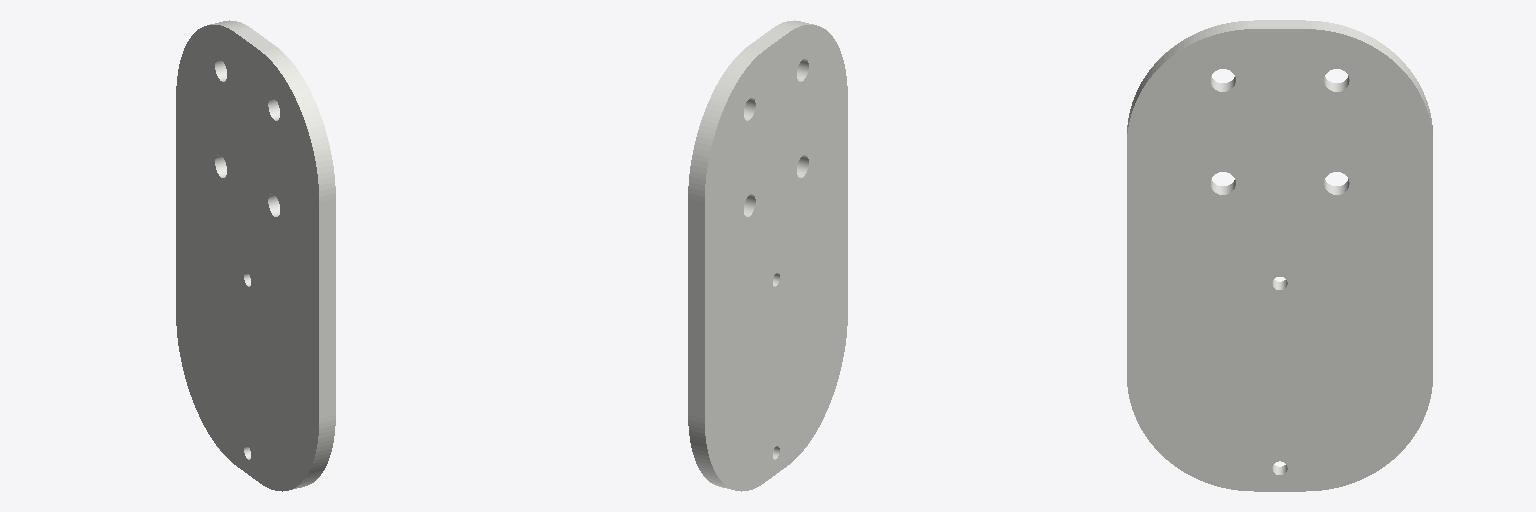
URDF robot description (abb_l515):
<?xml version="1.0" ?>
<!-- =================================================================================== -->
<!-- |    This document was autogenerated by xacro from [local-path]/Flexcraft/active_vision_ws/src/agent_models/abb_l515_model/abb_l515_description/urdf/abb_l515.xacro | -->
<!-- |    EDITING THIS FILE BY HAND IS NOT RECOMMENDED                                 | -->
<!-- =================================================================================== -->
<robot name="abb_l515">
    <!-- Conversion were obtained from http://www.e-paint.co.uk/Lab_values.asp
       unless otherwise stated. -->
    <!-- Conversion were obtained from http://www.e-paint.co.uk/Lab_values.asp
       unless otherwise stated. -->
    <material name="aluminum">
        <color rgba="0.5 0.5 0.5 1" />
    </material>
    <material name="plastic">
        <color rgba="0.1 0.1 0.1 1" />
    </material>
    <!-- this specific plug does not apply to L515 -->
    <!-- link list -->
    <link name="base_link">
        <!-- See note 1 in package.xml about the inertial and mass values -->
        <inertial>
            <mass value="13.7742" />
            <origin xyz="-0.028986 0.000596 0.11273" rpy="0 0 0" />
            <inertia ixx="0.101998" ixy="0.000495482" ixz="0.000311158" iyy="0.13969" iyz="-0.000245375" izz="0.130433" />
        </inertial>
        <collision name="collision">
            <geometry>
                <mesh filename="package://abb_irb1200_support/meshes/irb1200_5_90/collision/base_link.stl" />
            </geometry>
        </collision>
        <visual name="visual">
            <geometry>
                <mesh filename="package://abb_irb1200_support/meshes/irb1200_5_90/visual/base_link.dae" />
            </geometry>
            <material name="">
                <color rgba="1 1 0 1" />
            </material>
        </visual>
    </link>
    <link name="link_1">
        <!-- See note 1 in package.xml about the inertial and mass values -->
        <inertial>
            <mass value="11.8419" />
            <origin xyz="0.000877 -0.000631 -0.062883" rpy="0 0 0" />
            <inertia ixx="0.11194" ixy="-4.54988e-05" ixz="0.000280961" iyy="0.0915159" iyz="-0.000109905" izz="0.0876456" />
        </inertial>
        <collision name="collision">
            <geometry>
                <mesh filename="package://abb_irb1200_support/meshes/irb1200_5_90/collision/link_1.stl" />
            </geometry>
        </collision>
        <visual name="visual">
            <geometry>
                <mesh filename="package://abb_irb1200_support/meshes/irb1200_5_90/visual/link_1.dae" />
            </geometry>
            <material name="">
                <color rgba="1 1 0 1" />
            </material>
        </visual>
    </link>
    <link name="link_2">
        <!-- See note 1 in package.xml about the inertial and mass values -->
        <inertial>
            <mass value="17.5394" />
            <origin xyz="-0.000928 -0.000497 0.250051" rpy="0 0 0" />
            <inertia ixx="0.493558" ixy="1.32136e-05" ixz="0.000209024" iyy="0.462939" iyz="-0.00179901" izz="0.0894214" />
        </inertial>
        <collision name="collision">
            <geometry>
                <mesh filename="package://abb_irb1200_support/meshes/irb1200_5_90/collision/link_2.stl" />
            </geometry>
        </collision>
        <visual name="visual">
            <geometry>
                <mesh filename="package://abb_irb1200_support/meshes/irb1200_5_90/visual/link_2.dae" />
            </geometry>
            <material name="">
                <color rgba="1 1 0 1" />
            </material>
        </visual>
    </link>
    <link name="link_3">
        <!-- See note 1 in package.xml about the inertial and mass values -->
        <inertial>
            <mass value="7.46365" />
            <origin xyz="0.099588 0.001143 0.032333" rpy="0 0 0" />
            <inertia ixx="0.0252424" ixy="0.000142737" ixz="-0.00565542" iyy="0.0906438" iyz="0.000142213" izz="0.0825079" />
        </inertial>
        <collision name="collision">
            <geometry>
                <mesh filename="package://abb_irb1200_support/meshes/irb1200_5_90/collision/link_3.stl" />
            </geometry>
        </collision>
        <visual name="visual">
            <geometry>
                <mesh filename="package://abb_irb1200_support/meshes/irb1200_5_90/visual/link_3.dae" />
            </geometry>
            <material name="">
                <color rgba="1 1 0 1" />
            </material>
        </visual>
    </link>
    <link name="link_4">
        <!-- See note 1 in package.xml about the inertial and mass values -->
        <inertial>
            <mass value="2.74436" />
            <origin xyz="0.381678 0.001261 0.005168" rpy="0 0 0" />
            <inertia ixx="0.00573099" ixy="-0.000131119" ixz="0.000380232" iyy="0.0118352" iyz="-2.26565e-05" izz="0.0114428" />
        </inertial>
        <collision name="collision">
            <geometry>
                <mesh filename="package://abb_irb1200_support/meshes/irb1200_5_90/collision/link_4.stl" />
            </geometry>
        </collision>
        <visual name="visual">
            <geometry>
                <mesh filename="package://abb_irb1200_support/meshes/irb1200_5_90/visual/link_4.dae" />
            </geometry>
            <material name="">
                <color rgba="1 1 0 1" />
            </material>
        </visual>
    </link>
    <link name="link_5">
        <!-- See note 1 in package.xml about the inertial and mass values -->
        <inertial>
            <mass value="0.62953" />
            <origin xyz="0.011197 -0.001056 0.000109" rpy="0 0 0" />
            <inertia ixx="0.000502815" ixy="-1.03173e-05" ixz="-8.74347e-08" iyy="0.00108856" iyz="2.07657e-07" izz="0.000918873" />
        </inertial>
        <collision name="collision">
            <geometry>
                <mesh filename="package://abb_irb1200_support/meshes/irb1200_5_90/collision/link_5.stl" />
            </geometry>
        </collision>
        <visual name="visual">
            <geometry>
                <mesh filename="package://abb_irb1200_support/meshes/irb1200_5_90/visual/link_5.dae" />
            </geometry>
            <material name="">
                <color rgba="1 1 0 1" />
            </material>
        </visual>
    </link>
    <link name="link_6">
        <!-- See note 1 in package.xml about the inertial and mass values -->
        <inertial>
            <mass value="0.137" />
            <origin rpy="0 0 0" xyz="-0.00706 -0.00017 -1.32E-06" />
            <inertia ixx="0.001" ixy="0" ixz="0" iyy="0.001" iyz="0" izz="0.001" />
        </inertial>
        <!-- Meshlab calculated values (below) make gazebo crash when rotating this joint. -->
        <!-- <inertial>
        <mass value="0.00686711"/>
        <origin xyz="-0.00250976 -1.89e-06 0.00010218"/>
        <inertia ixx="1.3517e-06" ixy="-1.21316e-11" ixz="9.18065e-12" iyy="6.89813e-07" iyz="-1.21534e-10" izz="6.90097e-07"/>
      </inertial> -->
        <collision name="collision">
            <geometry>
                <mesh filename="package://abb_irb1200_support/meshes/irb1200_5_90/collision/link_6.stl" />
            </geometry>
        </collision>
        <visual name="visual">
            <geometry>
                <mesh filename="package://abb_irb1200_support/meshes/irb1200_5_90/visual/link_6.dae" />
            </geometry>
            <material name="">
                <color rgba="1 1 0 1" />
            </material>
        </visual>
    </link>
    <!-- end of link list -->
    <!-- joint list -->
    <joint name="joint_1" type="revolute">
        <origin rpy="0 0 0" xyz="0 0 0.3991" />
        <axis xyz="0 0 1" />
        <parent link="base_link" />
        <child link="link_1" />
        <!-- See note 2 in package.xml about effort limits and dynamics values -->
        <limit effort="1000" lower="-2.967" upper="2.967" velocity="5.027" />
        <dynamics damping="50.0" friction="1.0" />
    </joint>
    <joint name="joint_2" type="revolute">
        <origin rpy="0 0 0" xyz="0 0 0" />
        <axis xyz="0 1 0" />
        <parent link="link_1" />
        <child link="link_2" />
        <!-- See note 2 in package.xml about effort limits and dynamics values -->
        <limit effort="1000" lower="-1.745" upper="2.269" velocity="4.189" />
        <dynamics damping="50.0" friction="1.0" />
    </joint>
    <joint name="joint_3" type="revolute">
        <origin rpy="0 0 0" xyz="0 0 0.448" />
        <axis xyz="0 1 0" />
        <parent link="link_2" />
        <child link="link_3" />
        <!-- See note 2 in package.xml about effort limits and dynamics values -->
        <limit effort="1000" lower="-3.491" upper="1.222" velocity="5.236" />
        <dynamics damping="10.0" friction="1.0" />
    </joint>
    <joint name="joint_4" type="revolute">
        <origin rpy="0 0 0" xyz="0 0 0.042" />
        <axis xyz="1 0 0" />
        <parent link="link_3" />
        <child link="link_4" />
        <!-- See note 2 in package.xml about effort limits and dynamics values -->
        <limit effort="1000" lower="-4.712" upper="4.712" velocity="6.981" />
        <dynamics damping="5.0" friction="1.0" />
    </joint>
    <joint name="joint_5" type="revolute">
        <origin rpy="0 0 0" xyz="0.451 0 0" />
        <axis xyz="0 1 0" />
        <parent link="link_4" />
        <child link="link_5" />
        <!-- See note 2 in package.xml about effort limits and dynamics values -->
        <limit effort="1000" lower="-2.269" upper="2.269" velocity="7.069" />
        <dynamics damping="2.0" friction="1.0" />
    </joint>
    <joint name="joint_6" type="revolute">
        <origin rpy="0 0 0" xyz="0.082 0 0" />
        <axis xyz="1 0 0" />
        <parent link="link_5" />
        <child link="link_6" />
        <!-- See note 2 in package.xml about effort limits and dynamics values -->
        <limit effort="1000" lower="-6.283" upper="6.283" velocity="10.472" />
        <dynamics damping="1.0" friction="1.0" />
    </joint>
    <!-- end of joint list -->
    <!-- ROS-Industrial 'base' frame: base_link to ABB World Coordinates transform -->
    <link name="base" />
    <joint name="base_link-base" type="fixed">
        <origin rpy="0 0 0" xyz="0 0 0" />
        <parent link="base_link" />
        <child link="base" />
    </joint>
    <!-- ROS-Industrial 'flange' frame: attachment point for EEF models -->
    <link name="flange" />
    <joint name="joint_6-flange" type="fixed">
        <origin rpy="0 0 0" xyz="0 0 0" />
        <parent link="link_6" />
        <child link="flange" />
    </joint>
    <!-- ROS-Industrial 'tool0' frame: all-zeros tool frame -->
    <link name="tool0" />
    <joint name="link_6-tool0" type="fixed">
        <origin rpy="0 1.5707963267948966 0" xyz="0 0 0" />
        <parent link="flange" />
        <child link="tool0" />
    </joint>
    <!-- transmission list -->
    <transmission name="tran1">
        <type>transmission_interface/SimpleTransmission</type>
        <joint name="joint_1">
            <hardwareInterface>hardware_interface/EffortJointInterface</hardwareInterface>
        </joint>
        <actuator name="motor1">
            <mechanicalReduction>1</mechanicalReduction>
            <hardwareInterface>hardware_interface/EffortJointInterface</hardwareInterface>
        </actuator>
    </transmission>
    <transmission name="tran2">
        <type>transmission_interface/SimpleTransmission</type>
        <joint name="joint_2">
            <hardwareInterface>hardware_interface/EffortJointInterface</hardwareInterface>
        </joint>
        <actuator name="motor2">
            <mechanicalReduction>1</mechanicalReduction>
            <hardwareInterface>hardware_interface/EffortJointInterface</hardwareInterface>
        </actuator>
    </transmission>
    <transmission name="tran3">
        <type>transmission_interface/SimpleTransmission</type>
        <joint name="joint_3">
            <hardwareInterface>hardware_interface/EffortJointInterface</hardwareInterface>
        </joint>
        <actuator name="motor3">
            <mechanicalReduction>1</mechanicalReduction>
            <hardwareInterface>hardware_interface/EffortJointInterface</hardwareInterface>
        </actuator>
    </transmission>
    <transmission name="tran4">
        <type>transmission_interface/SimpleTransmission</type>
        <joint name="joint_4">
            <hardwareInterface>hardware_interface/EffortJointInterface</hardwareInterface>
        </joint>
        <actuator name="motor4">
            <mechanicalReduction>1</mechanicalReduction>
            <hardwareInterface>hardware_interface/EffortJointInterface</hardwareInterface>
        </actuator>
    </transmission>
    <transmission name="tran5">
        <type>transmission_interface/SimpleTransmission</type>
        <joint name="joint_5">
            <hardwareInterface>hardware_interface/EffortJointInterface</hardwareInterface>
        </joint>
        <actuator name="motor5">
            <mechanicalReduction>1</mechanicalReduction>
            <hardwareInterface>hardware_interface/EffortJointInterface</hardwareInterface>
        </actuator>
    </transmission>
    <transmission name="tran6">
        <type>transmission_interface/SimpleTransmission</type>
        <joint name="joint_6">
            <hardwareInterface>hardware_interface/EffortJointInterface</hardwareInterface>
        </joint>
        <actuator name="motor6">
            <mechanicalReduction>1</mechanicalReduction>
            <hardwareInterface>hardware_interface/EffortJointInterface</hardwareInterface>
        </actuator>
    </transmission>
    <!-- end of transmission list -->
    <!-- Gazebo-specific link properties -->
    <gazebo reference="base_link">
        <turnGravityOff>true</turnGravityOff>
        <plugin name="gazebo_ros_control">
            <robotNamespace>/</robotNamespace>
        </plugin>
    </gazebo>
    <gazebo reference="link_1">
        <turnGravityOff>true</turnGravityOff>
    </gazebo>
    <gazebo reference="link_2">
        <turnGravityOff>true</turnGravityOff>
    </gazebo>
    <gazebo reference="link_3">
        <turnGravityOff>true</turnGravityOff>
    </gazebo>
    <gazebo reference="link_4">
        <turnGravityOff>true</turnGravityOff>
    </gazebo>
    <gazebo reference="link_5">
        <turnGravityOff>true</turnGravityOff>
    </gazebo>
    <gazebo reference="link_6">
        <turnGravityOff>true</turnGravityOff>
    </gazebo>
    <!-- Links -->
    <link name="mount_l515_link">
        <inertial>
            <mass value="13.7742" />
            <origin rpy="0 0 0" xyz="0 0 0" />
            <inertia ixx="0.101998" ixy="0.000495482" ixz="0.000311158" iyy="0.13969" iyz="-0.000245375" izz="0.130433" />
        </inertial>
        <collision>
            <geometry>
                <mesh filename="package://abb_l515_description/meshes/camera_mount/collision/camera_mount.stl" scale="0.001 0.001 0.001" />
            </geometry>
        </collision>
        <visual>
            <geometry>
                <mesh filename="package://abb_l515_description/meshes/camera_mount/collision/camera_mount.stl" scale="0.001 0.001 0.001" />
            </geometry>
            <material name="">
                <color rgba="0.9254902 0.9254902 0.9058824 1" />
            </material>
        </visual>
    </link>
    <!-- camera body, with origin at bottom screw mount -->
    <joint name="camera_joint" type="fixed">
        <origin rpy="-0.7662698 -1.5486988 0.7653934" xyz="0.08010264817074966 0.0010650384356907369 0.010552961331817563" />
        <parent link="tool0" />
        <child link="camera_bottom_screw_frame" />
    </joint>
    <link name="camera_bottom_screw_frame" />
    <joint name="camera_link_joint" type="fixed">
        <origin rpy="0 0 0" xyz="0.007500000000000001 0.0 0.021150000000000002" />
        <parent link="camera_bottom_screw_frame" />
        <child link="camera_link" />
    </joint>
    <link name="camera_link">
        <visual>
            <origin rpy="1.5707963267948966 0 1.5707963267948966" xyz="0.0045 0 0.009000000000000001" />
            <geometry>
                <mesh filename="package://realsense2_description/meshes/l515.dae" />
            </geometry>
        </visual>
        <collision>
            <origin rpy="1.5707963267948966 0 1.5707963267948966" xyz="-0.0085 0 0.009000000000000001" />
            <geometry>
                <cylinder length="0.026" radius="0.0305" />
            </geometry>
        </collision>
        <inertial>
            <!-- The following are not reliable values, and should not be used for modeling -->
            <!-- calculated assuming full cylinder as described here: https://en.wikipedia.org/wiki/List_of_moments_of_inertia -->
            <mass value="0.095" />
            <origin xyz="0 0 0" rpy="0 0 0" />
            <inertia ixx="0.000044" ixy="0.0" ixz="0.0" iyy="0.000027" iyz="0.0" izz="0.000027" />
        </inertial>
    </link>
    <joint name="camera_lower_mount_joint" type="fixed">
        <origin rpy="0 0 0" xyz="-0.013999999999999999 0 0.01015" />
        <parent link="camera_bottom_screw_frame" />
        <child link="camera_lower_mount" />
    </joint>
    <link name="camera_lower_mount" />
    <joint name="camera_upper_mount_joint" type="fixed">
        <origin rpy="0 0 0" xyz="-0.013999999999999999 0 0.05015" />
        <parent link="camera_bottom_screw_frame" />
        <child link="camera_upper_mount" />
    </joint>
    <link name="camera_upper_mount" />
    <!-- camera depth joints and links -->
    <joint name="camera_depth_joint" type="fixed">
        <origin rpy="0 0 0" xyz="0 0 0" />
        <parent link="camera_link" />
        <child link="camera_depth_frame" />
    </joint>
    <link name="camera_depth_frame" />
    <joint name="camera_depth_optical_joint" type="fixed">
        <origin rpy="-1.5707963267948966 0 -1.5707963267948966" xyz="0 0 0" />
        <parent link="camera_depth_frame" />
        <child link="camera_depth_optical_frame" />
    </joint>
    <link name="camera_depth_optical_frame" />
    <!-- camera left IR joints and links -->
    <joint name="camera_infra_joint" type="fixed">
        <origin rpy="0 0 0" xyz="0 0.0 0" />
        <parent link="camera_link" />
        <child link="camera_infra_frame" />
    </joint>
    <link name="camera_infra_frame" />
    <joint name="camera_infra_optical_joint" type="fixed">
        <origin rpy="-1.5707963267948966 0 -1.5707963267948966" xyz="0 0 0" />
        <parent link="camera_infra_frame" />
        <child link="camera_infra_optical_frame" />
    </joint>
    <link name="camera_infra_optical_frame" />
    <!-- camera color joints and links -->
    <joint name="camera_color_joint" type="fixed">
        <origin rpy="0 0 0" xyz="0 0 0.024" />
        <parent link="camera_link" />
        <child link="camera_color_frame" />
    </joint>
    <link name="camera_color_frame" />
    <joint name="camera_color_optical_joint" type="fixed">
        <origin rpy="-1.5707963267948966 0 -1.5707963267948966" xyz="0 0 0" />
        <parent link="camera_color_frame" />
        <child link="camera_color_optical_frame" />
    </joint>
    <link name="camera_color_optical_frame" />
    <!-- camera IMU joints and links -->
    <link name="camera_gyro_frame" />
    <link name="camera_gyro_optical_frame" />
    <link name="camera_accel_frame" />
    <link name="camera_accel_optical_frame" />
    <joint name="camera_gyro_joint" type="fixed">
        <origin rpy="-0.006161012 0.020193459 0.016301375" xyz="-0.00410137791186571 -0.0129784867167473 0.00256138201802969" />
        <parent link="camera_color_frame" />
        <child link="camera_gyro_frame" />
    </joint>
    <joint name="camera_gyro_optical_joint" type="fixed">
        <origin rpy="-1.5707963267948966 0 -1.5707963267948966" xyz="0 0 0" />
        <parent link="camera_gyro_frame" />
        <child link="camera_gyro_optical_frame" />
    </joint>
    <joint name="camera_accel_joint" type="fixed">
        <origin rpy="-0.006161012 0.020193459 0.016301375" xyz="-0.00410137791186571 -0.0129784867167473 0.00256138201802969" />
        <parent link="camera_color_frame" />
        <child link="camera_accel_frame" />
    </joint>
    <joint name="camera_accel_optical_joint" type="fixed">
        <origin rpy="-1.5707963267948966 0 -1.5707963267948966" xyz="0 0 0" />
        <parent link="camera_accel_frame" />
        <child link="camera_accel_optical_frame" />
    </joint>
    <!-- Gazebo plugin for depth camera -->
    <gazebo reference="camera_link">
        <material>Gazebo/Wood</material>
        <sensor name="camera" type="depth">
            <pose>0 0 0 0 0 0</pose>
            <update_rate>30</update_rate>
            <always_on>true</always_on>
            <visualize>false</visualize>
            <camera>
                <!-- <horizontal_fov>1.22173</horizontal_fov> -->
                <horizontal_fov>0.698132</horizontal_fov>
                <image>
                    <width>960</width>
                    <height>720</height>
                    <format>R8G8B8</format>
                </image>
                <clip>
                    <near>0.05</near>
                    <far>2.0</far>
                </clip>
            </camera>
            <plugin filename="libgazebo_ros_openni_kinect.so" name="camera_controller">
                <baseline>0.2</baseline>
                <alwaysOn>true</alwaysOn>
                <updateRate>0.0</updateRate>
                <cameraName>camera</cameraName>
                <frameName>camera_color_optical_frame</frameName>
                <imageTopicName>color/image_rect_color</imageTopicName>
                <depthImageTopicName>aligned_depth_to_color/image_raw</depthImageTopicName>
                <pointCloudTopicName>depth_registered/points</pointCloudTopicName>
                <cameraInfoTopicName>color/camera_info</cameraInfoTopicName>
                <depthImageCameraInfoTopicName>aligned_depth_to_color/camera_info</depthImageCameraInfoTopicName>
                <pointCloudCutoff>0.05</pointCloudCutoff>
                <pointCloudCutoffMax>2.0</pointCloudCutoffMax>
                <hackBaseline>0.0</hackBaseline>
                <distortionK1>0.0</distortionK1>
                <distortionK2>0.0</distortionK2>
                <distortionK3>0.0</distortionK3>
                <distortionT1>0.0</distortionT1>
                <distortionT2>0.0</distortionT2>
                <CxPrime>0.0</CxPrime>
                <Cx>0.0</Cx>
                <Cy>0.0</Cy>
                <focalLength>0.0</focalLength>
            </plugin>
        </sensor>
        <turnGravityOff>true</turnGravityOff>
    </gazebo>
    <!-- Connect robot to world. -->
    <link name="world" />
    <joint name="world_to_base_link_joint" type="fixed">
        <origin rpy="0 0 0" xyz="0 0 0.525" />
        <parent link="world" />
        <child link="base_link" />
    </joint>
    <!-- Connect robot to world. -->
    <link name="visual" />
    <joint name="world_to_visual_joint" type="fixed">
        <origin rpy="-1.5707963267948966 0 -1.5707963267948966" xyz="0 0 0" />
        <parent link="world" />
        <child link="visual" />
    </joint>
    <!-- Connect camera mount to arm. -->
    <joint name="$arm_to_mount_joint" type="fixed">
        <origin rpy="-1.5707963267948966 0 1.5707963267948966" xyz="0.032755 0 0" />
        <parent link="tool0" />
        <child link="mount_l515_link" />
    </joint>
    <!-- Plugin for ros_control. -->
    <gazebo>
        <plugin filename="libgazebo_ros_control.so" name="gazebo_ros_control">
            <robotNamespace>/</robotNamespace>
            <robotSimType>gazebo_ros_control/DefaultRobotHWSim</robotSimType>
        </plugin>
    </gazebo>
</robot>

--- Facts derived from the render (not from the file) ---
The picture shows the robot from 3 angles, left to right: view 1: azimuth 30°, elevation 25°; view 2: azimuth 150°, elevation 25°; view 3: azimuth 270°, elevation 25°; orthographic projection.
Model abb_l515 with 27 links and 26 joints (6 revolute, 20 fixed), rooted at world, posed all joints at 0.
Links seen in each view (by area): view 1: mount_l515_link; view 2: mount_l515_link; view 3: mount_l515_link.
Link boxes in pixels (<box>): mount_l515_link: <box>176,20,335,491</box>; mount_l515_link: <box>688,20,847,491</box>; mount_l515_link: <box>1127,20,1432,491</box>.
Bounding box of the posed robot: 0.004 × 0.06 × 0.1 m (x, y, z).
Meshes: 9 distinct files referenced, 1 mesh visuals loaded (1 binary STL); not drawn: 8 (reference not matched to a file when rendering).